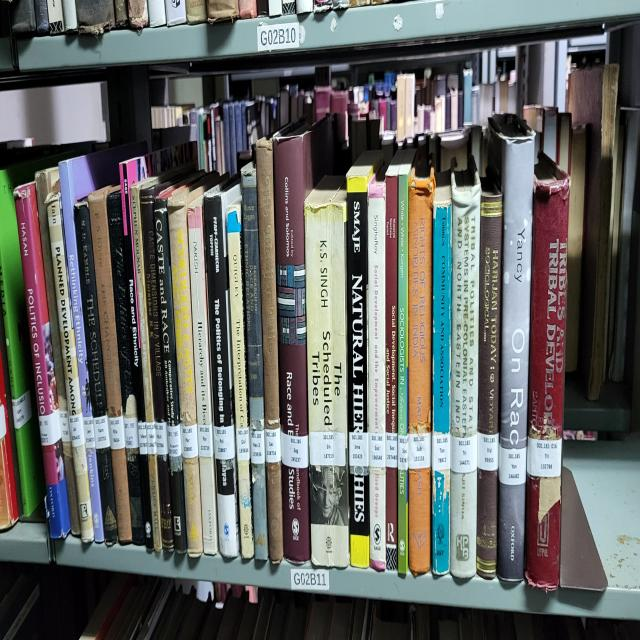Book: (274, 122, 331, 563), (59, 141, 148, 419), (489, 114, 535, 582), (14, 181, 70, 538), (525, 152, 570, 590), (168, 173, 218, 557), (0, 157, 50, 517), (304, 176, 349, 568), (46, 192, 94, 541), (35, 168, 80, 536), (75, 200, 118, 544), (346, 152, 380, 568), (204, 181, 240, 557), (120, 157, 154, 549), (450, 160, 481, 579), (140, 181, 174, 552), (154, 187, 188, 555), (256, 138, 284, 565), (130, 181, 162, 552), (188, 195, 219, 555), (408, 168, 435, 574), (241, 170, 268, 560), (476, 179, 502, 579), (228, 200, 254, 560), (431, 173, 451, 576), (368, 176, 386, 571), (398, 152, 414, 576), (106, 189, 135, 417), (385, 160, 398, 571), (89, 446, 104, 541), (316, 287, 318, 290), (145, 341, 146, 344)
Label: (526, 436, 561, 476), (309, 433, 346, 465), (451, 433, 478, 473), (499, 446, 526, 484), (281, 433, 309, 468), (409, 433, 431, 471), (39, 409, 61, 446), (478, 433, 499, 471), (12, 390, 31, 430), (214, 425, 235, 460), (431, 433, 450, 471), (349, 433, 369, 468), (181, 425, 199, 457), (265, 427, 281, 463), (69, 411, 85, 446), (109, 414, 125, 449), (94, 414, 110, 449), (369, 433, 385, 468), (250, 430, 265, 465), (198, 425, 214, 457), (236, 427, 250, 463), (124, 417, 139, 449), (155, 422, 169, 455), (385, 433, 398, 468), (59, 409, 71, 444), (168, 425, 181, 457), (398, 433, 408, 471), (84, 417, 95, 449), (138, 422, 148, 455), (146, 422, 156, 455), (459, 455, 460, 460)
